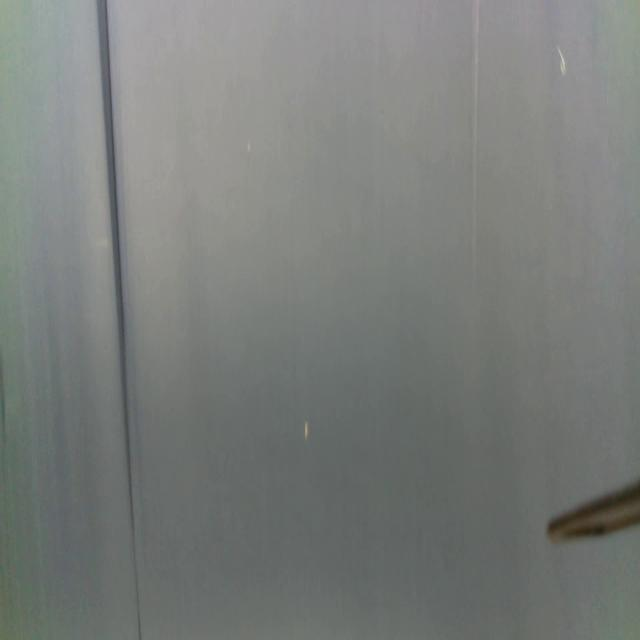crease: (97, 1, 142, 640)
hole: (302, 418, 311, 445)
